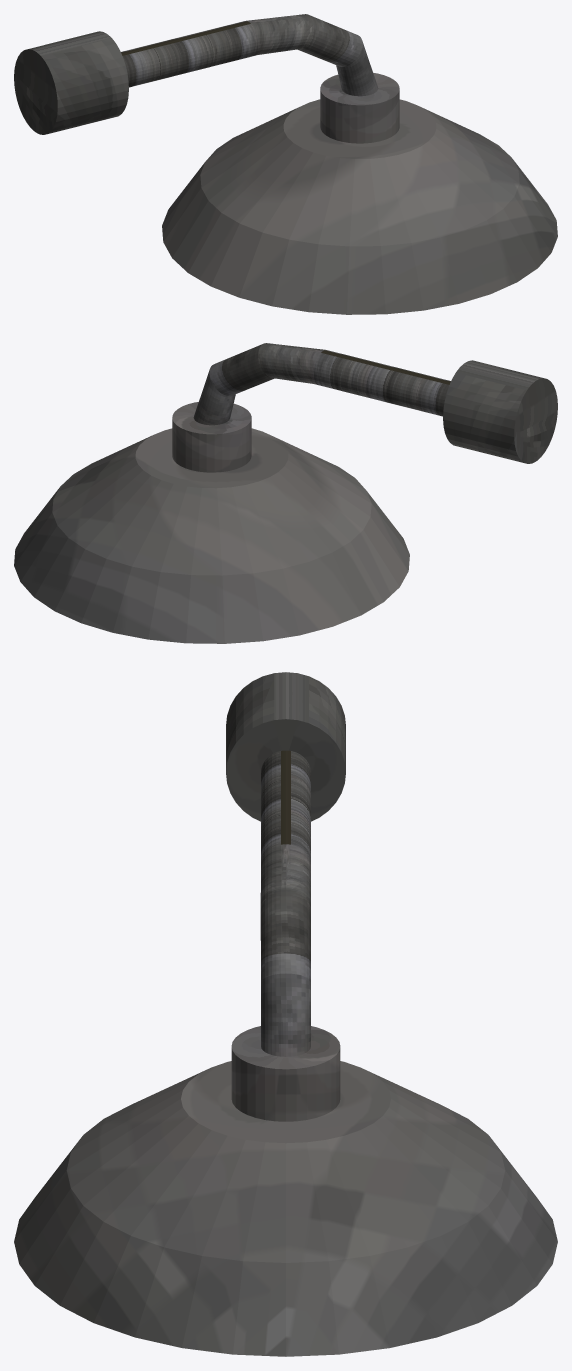
File: WallLamp.fbx
The picture shows the model from 3 angles, top to bottom: view 1: azimuth 30°, elevation 25°; view 2: azimuth 150°, elevation 25°; view 3: azimuth 270°, elevation 25°; orthographic projection. The views are drawn at different scales.
Visible parts, largest first — view 1: Cylinder; view 2: Cylinder; view 3: Cylinder.
Part boxes in pixels (x1=…): Cylinder: x1=14, y1=14, x2=557, y2=314; Cylinder: x1=14, y1=343, x2=557, y2=643; Cylinder: x1=14, y1=672, x2=557, y2=1356.
Size of the model in its own units: 277 by 168 by 191.
